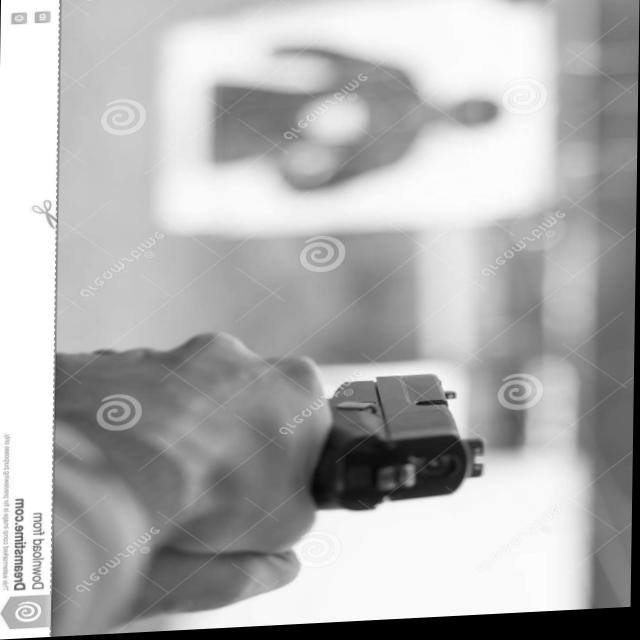handgun: (310, 375, 489, 519)
